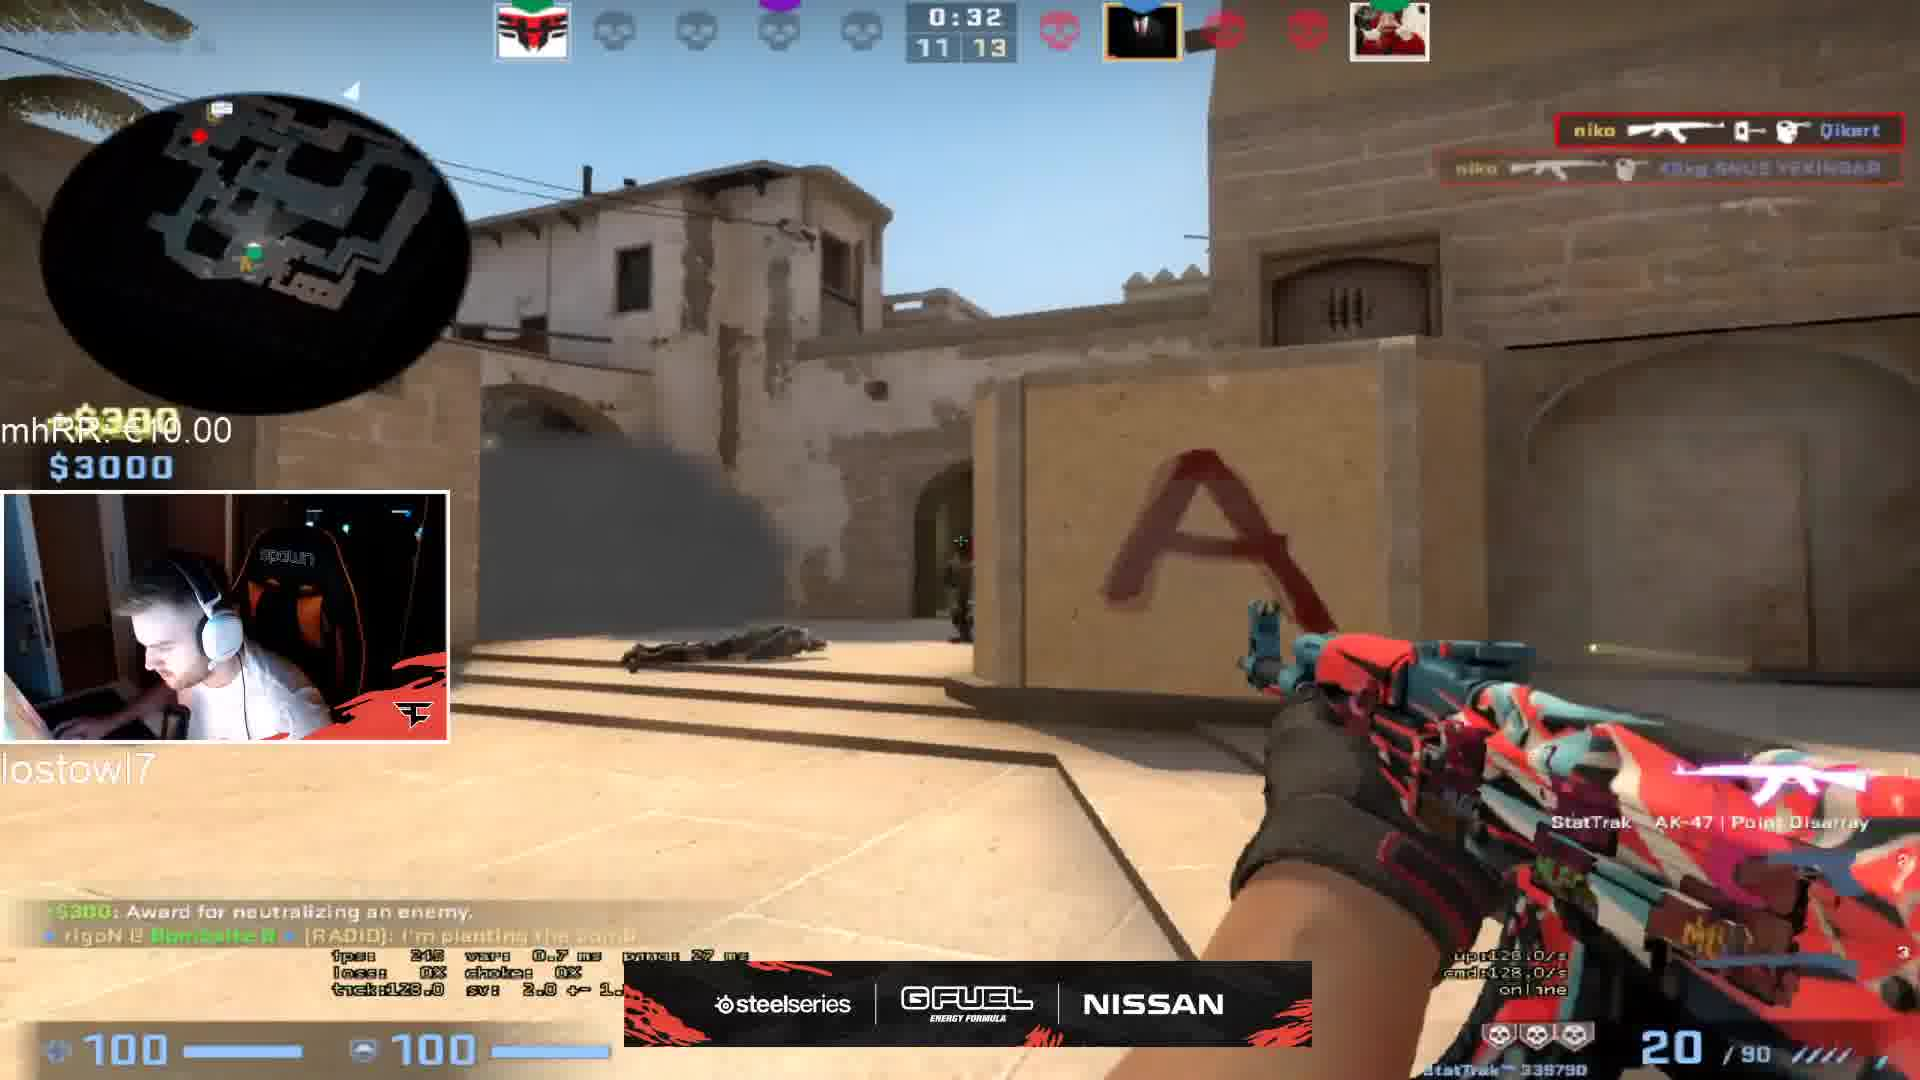enemy: (938, 546, 982, 655)
